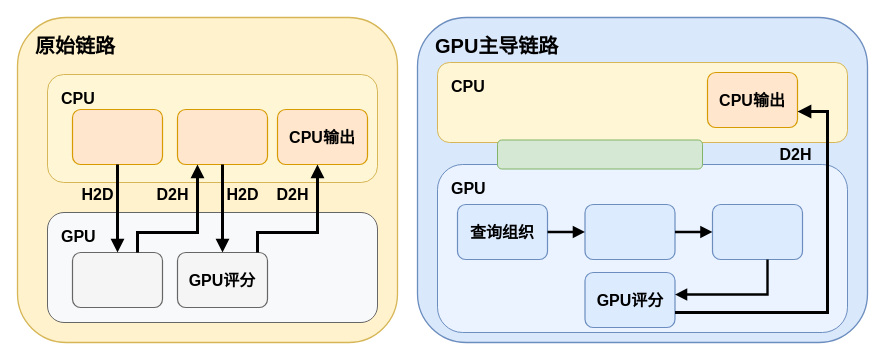
Image size: 886x361. Some labels were removed from this diagram. Each missing label, with the centre of its shape:
"CPU准备" belongs at [117,136].
"CPU重组" belongs at [222,136].
"GPU ANN检索" belongs at [117,279].
"仅保留最终结果回CPU" belongs at [599,154].
"候选召回" belongs at [629,231].
"张量化组织" belongs at [757,231].
